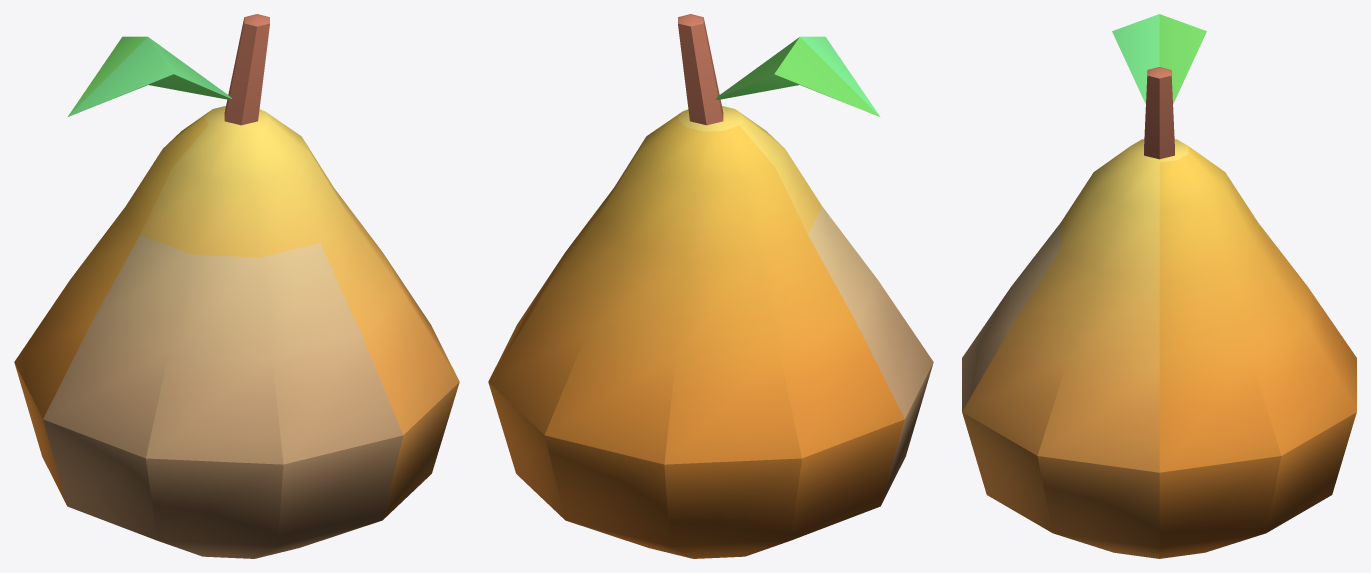
The model's file is food_pear_golden.glb.
3 views of the same model, side by side, from view 1: azimuth 30°, elevation 25°; view 2: azimuth 150°, elevation 25°; view 3: azimuth 270°, elevation 25° (orthographic). The views are drawn at different scales.
Parts seen in each view (by area): view 1: Item; view 2: Item; view 3: Item.
Part boxes in pixels (x1,y1,x2,y2): Item: [14, 14, 459, 558]; Item: [488, 14, 933, 558]; Item: [962, 14, 1356, 558].
Bounding box in the file's own units: 0.48 × 0.602 × 0.4565.
Materials: 1 (1 with a texture image).
